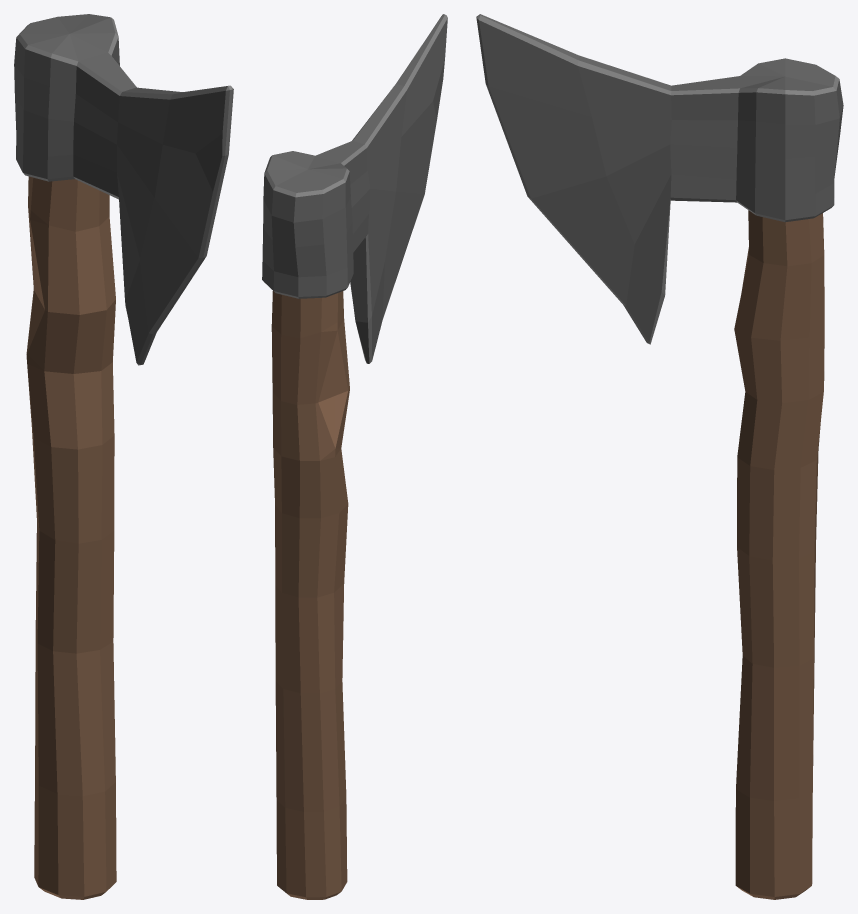
File: Axe_02.fbx
The picture shows the model from 3 angles, left to right: view 1: azimuth 30°, elevation 25°; view 2: azimuth 150°, elevation 25°; view 3: azimuth 270°, elevation 25°; orthographic projection. The views are drawn at different scales.
Parts seen in each view (by area): view 1: Axe_02; view 2: Axe_02; view 3: Axe_02.
Part boxes in pixels (x1,y1,x2,y2): Axe_02: (14, 14, 233, 899); Axe_02: (262, 14, 447, 899); Axe_02: (476, 14, 843, 899).
Bounding box in the file's own units: 13.94 × 130 × 49.54.
